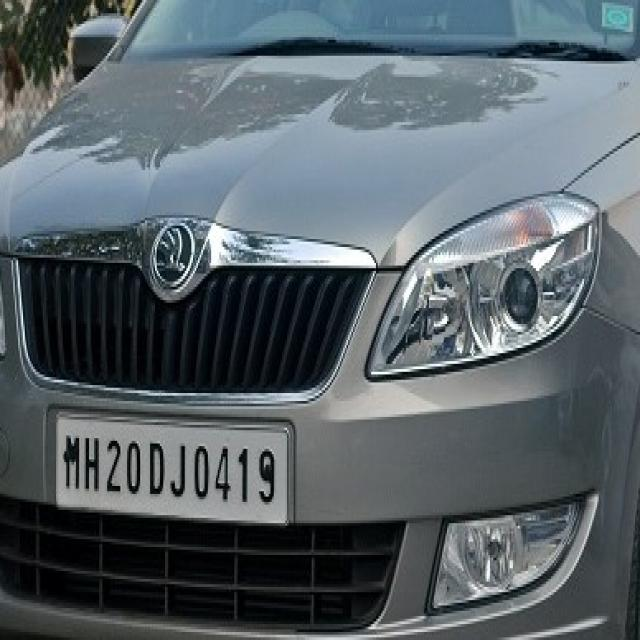Plate: (56, 410, 287, 524)
